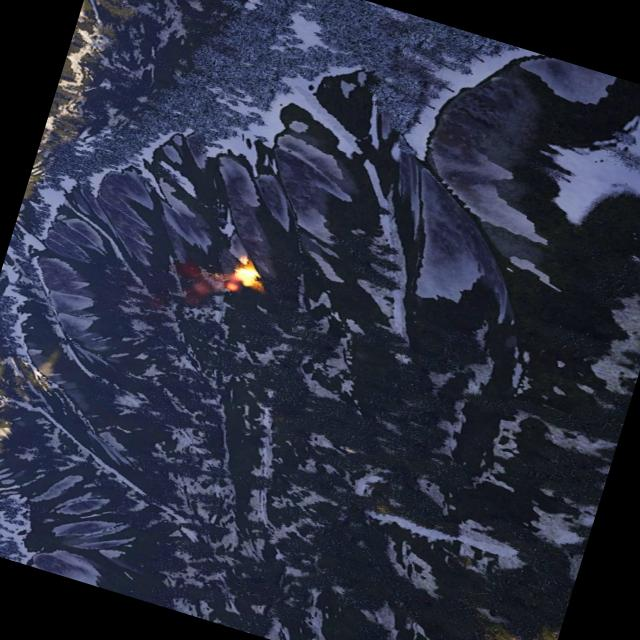fire: (232, 258, 264, 287)
smoke: (164, 250, 242, 314)
